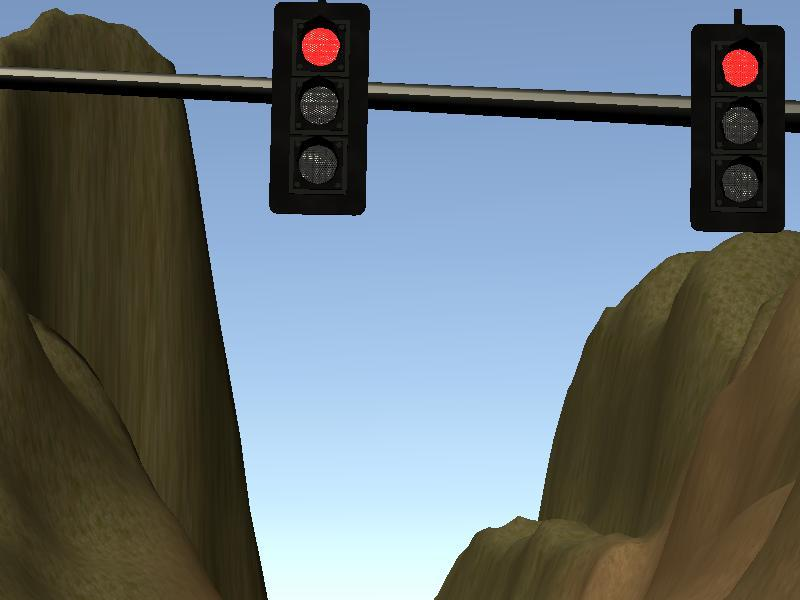Red: (695, 27, 786, 228), (279, 6, 362, 211)
